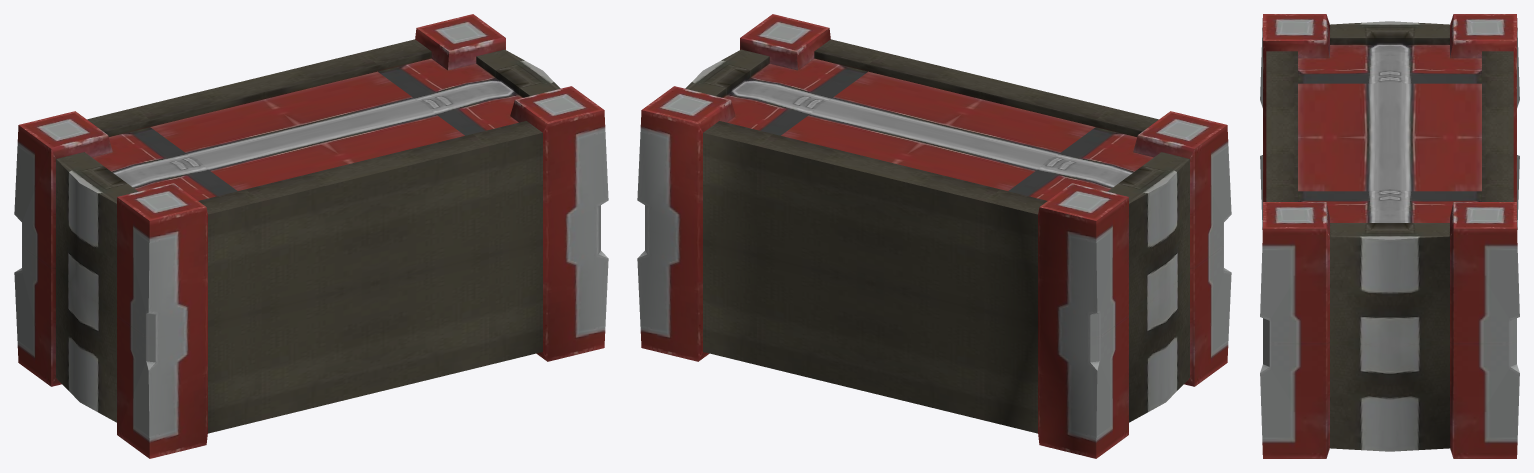
The model's file is Part - block5-D-HHOXUh.glb.
The picture shows the model from 3 angles, left to right: view 1: azimuth 30°, elevation 25°; view 2: azimuth 150°, elevation 25°; view 3: azimuth 270°, elevation 25°; orthographic projection. The views are drawn at different scales.
Visible parts, largest first — view 1: block5; view 2: block5; view 3: block5.
Boxes of the visible parts, x1,y1,x2,y2 form: block5: (14, 14, 608, 458); block5: (637, 14, 1231, 458); block5: (1260, 14, 1519, 458).
Size of the model in its own units: 2.04 by 1 by 1.02.
Materials: 1 (1 with a texture image).
